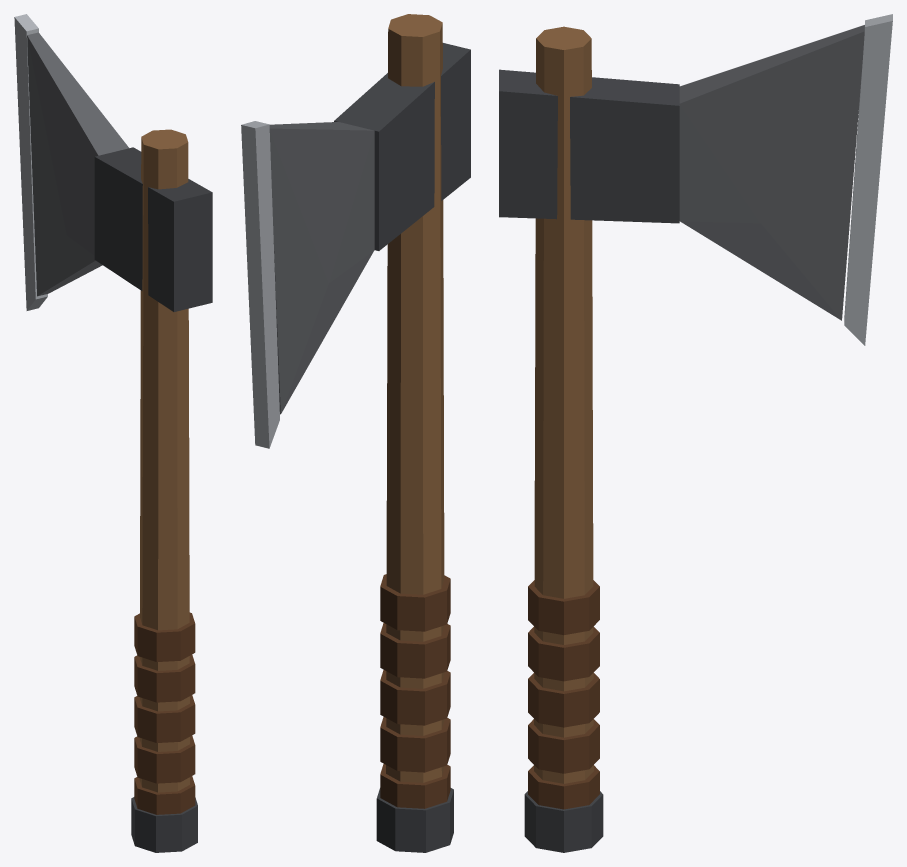
File: Axe.glb
3 renders of one model, left to right at view 1: azimuth 30°, elevation 25°; view 2: azimuth 150°, elevation 25°; view 3: azimuth 270°, elevation 25°, orthographic. The views are drawn at different scales.
Visible parts, largest first — view 1: Mat_Metal_4c4e52, Mat_Wood_6e4b2f, Mat_Wood_603e26, Mat_Stone_b0b4ba; view 2: Mat_Metal_4c4e52, Mat_Wood_6e4b2f, Mat_Stone_b0b4ba, Mat_Wood_603e26; view 3: Mat_Metal_4c4e52, Mat_Wood_6e4b2f, Mat_Stone_b0b4ba, Mat_Wood_603e26.
Part boxes in pixels (<box>): Mat_Metal_4c4e52: <box>27,32,212,852</box>; Mat_Wood_6e4b2f: <box>134,129,195,792</box>; Mat_Wood_603e26: <box>134,695,195,814</box>; Mat_Stone_b0b4ba: <box>14,14,47,310</box>; Mat_Metal_4c4e52: <box>269,43,470,852</box>; Mat_Wood_6e4b2f: <box>380,14,450,782</box>; Mat_Stone_b0b4ba: <box>241,121,279,448</box>; Mat_Wood_603e26: <box>380,670,450,808</box>; Mat_Metal_4c4e52: <box>499,25,864,852</box>; Mat_Wood_6e4b2f: <box>528,26,599,783</box>; Mat_Stone_b0b4ba: <box>844,14,892,345</box>; Mat_Wood_603e26: <box>528,673,599,809</box>.
Bounding box in the file's own units: 0.34 × 3.9 × 1.7.
Materials: 1 (1 with a texture image).
